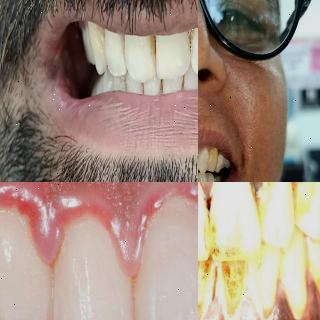Gum Swelling: (0, 182, 198, 275), (204, 297, 225, 320)
calculus: (225, 255, 258, 320), (202, 262, 226, 320), (250, 285, 281, 320), (212, 182, 251, 209), (258, 182, 296, 208)
plaque: (0, 194, 38, 256), (198, 152, 202, 164), (198, 176, 202, 182), (206, 178, 212, 182)
stains: (218, 253, 249, 320), (142, 20, 162, 71), (198, 258, 212, 318), (200, 210, 218, 254), (156, 78, 169, 95), (179, 70, 188, 94)
